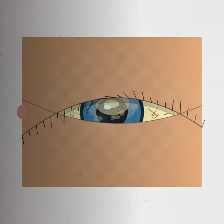corneal_ulcer: (85, 81, 140, 125)
